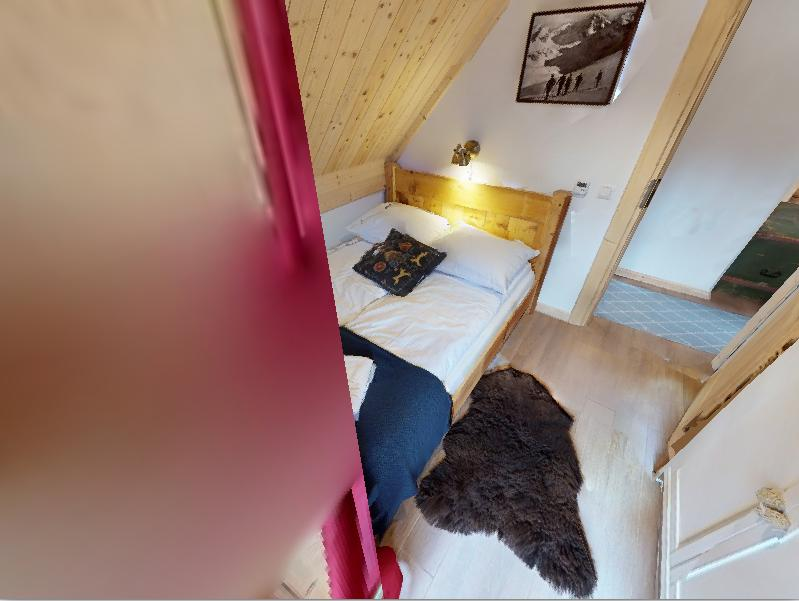bed: (273, 129, 614, 522)
door-frame: (579, 0, 799, 339)
